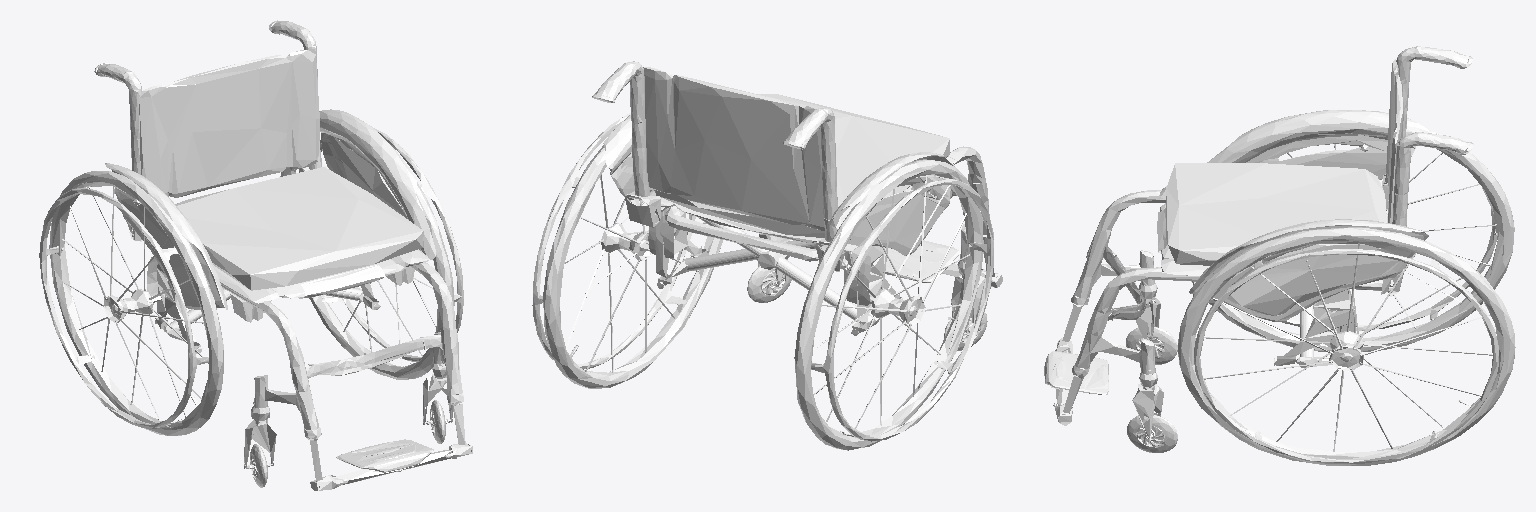
The robot description file, URDF, robot "wheelchair":
<?xml version="1.0" ?>
<robot name="wheelchair">

  <material name="white">
    <color rgba="1 1 1 1"/>
  </material>

  <link name="root">
    <inertial>
      <mass value="0"/>
      <origin rpy="0 0 0" xyz="0 0 0"/>
      <inertia ixx="0.01" ixy="0.0" ixz="0.0" iyy="0.01" iyz="0.0" izz="0.01"/>
    </inertial>
    <visual>
      <origin rpy="1.57079632679 0 -1.62079632679" xyz="0 0 0"/>
      <geometry>
        <mesh filename="wheelchair_new_compressed.obj" scale="0.36 0.28 0.36"/>
      </geometry>
      <material name="white"/>
    </visual>
    <collision>
      <origin rpy="1.57079632679 0 -1.62079632679" xyz="0 0 0"/>
      <geometry>
        <mesh filename="wheelchair_new_compressed_vhacd.obj" scale="0.36 0.28 0.36"/>
      </geometry>
    </collision>
  </link>
</robot>


--- What the picture shows (computed from the rendered views, not written in the file) ---
3 views of the same robot in one strip: view 1: azimuth 30°, elevation 25°; view 2: azimuth 150°, elevation 25°; view 3: azimuth 270°, elevation 25° (orthographic).
Robot: wheelchair — 1 links, 0 joints (none); root link root; default pose: all joints at 0.
Links seen in each view (by area): view 1: root; view 2: root; view 3: root.
Link boxes in pixels (bbox=[...]): root: bbox=[39, 20, 472, 490]; root: bbox=[532, 61, 1002, 450]; root: bbox=[1044, 46, 1515, 465].
Bounding box of the posed robot: 0.7371 × 1.06 × 0.7958 m (x, y, z).
1 mesh visuals loaded from 1 distinct referenced files (1 OBJ).